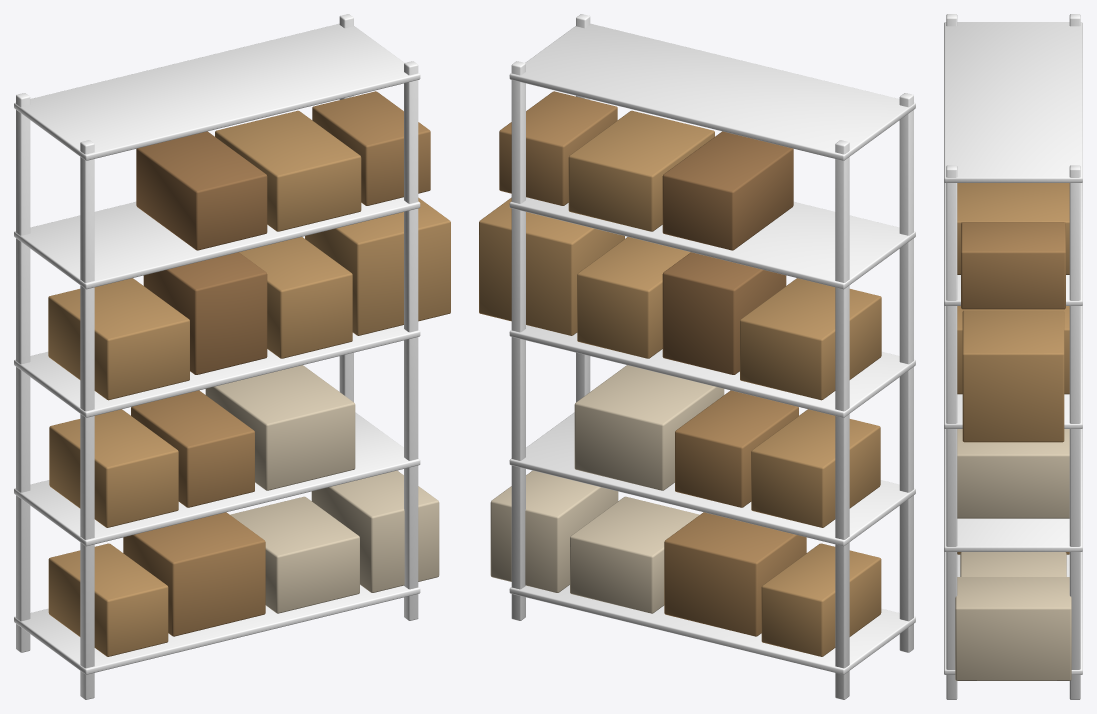
The model's file is SM_MB_Shelving.fbx.
The picture shows the model from 3 angles, left to right: view 1: azimuth 30°, elevation 25°; view 2: azimuth 150°, elevation 25°; view 3: azimuth 270°, elevation 25°; orthographic projection. The views are drawn at different scales.
Parts seen in each view (by area): view 1: SM_MB_Shelving; view 2: SM_MB_Shelving; view 3: SM_MB_Shelving.
Part boxes in pixels (box(x1,y1,x2,y2)): SM_MB_Shelving: box(14, 14, 450, 699); SM_MB_Shelving: box(479, 14, 915, 699); SM_MB_Shelving: box(944, 14, 1082, 699).
Size of the model in its own units: 1.35 by 0.45 by 1.9.
